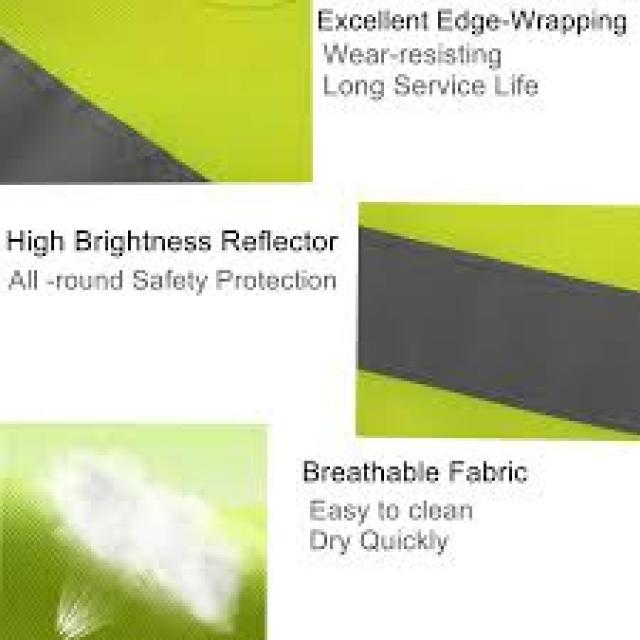Reflective-Jacket: (3, 5, 620, 640)
